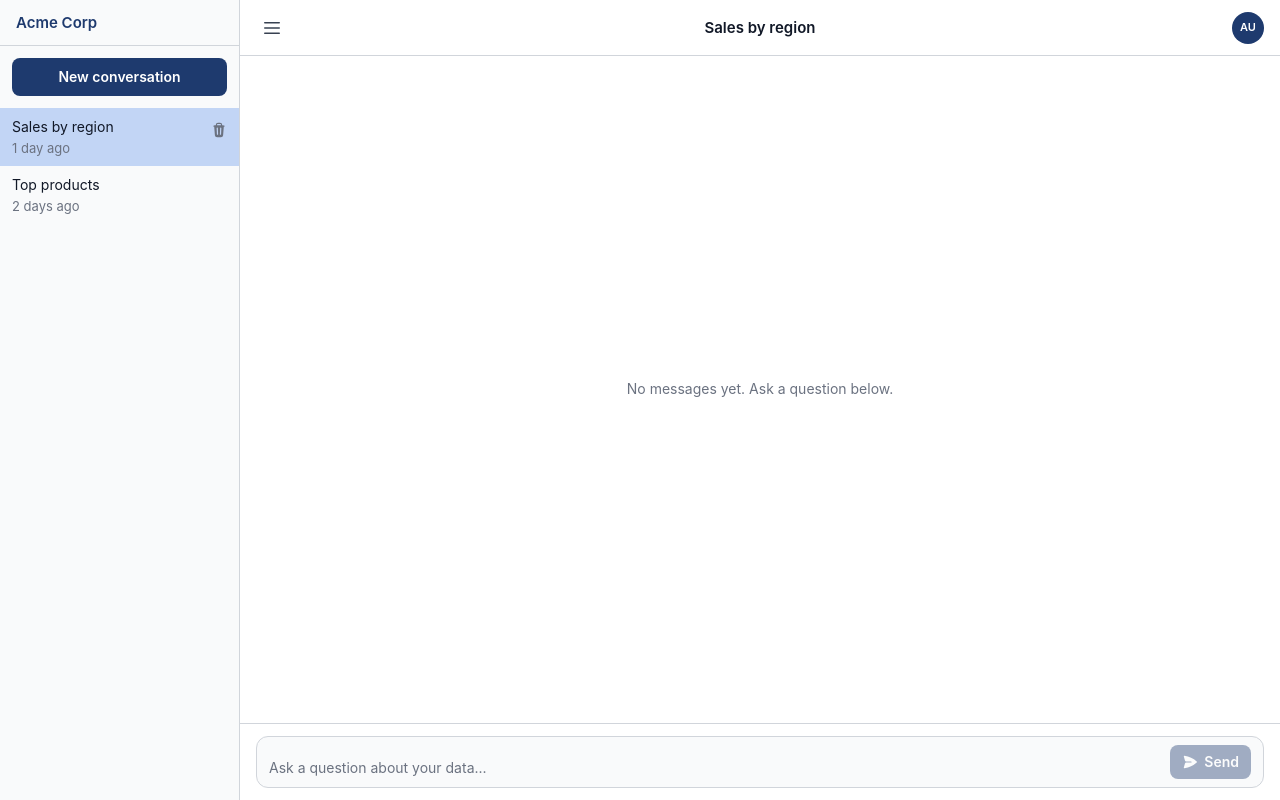
Test: ChatPage — delete active navigates › navigates to /chat after deleting the active conversation
Click the button named "delete conversation: sales by region".
click(219, 130)  # box [207,118,231,142]
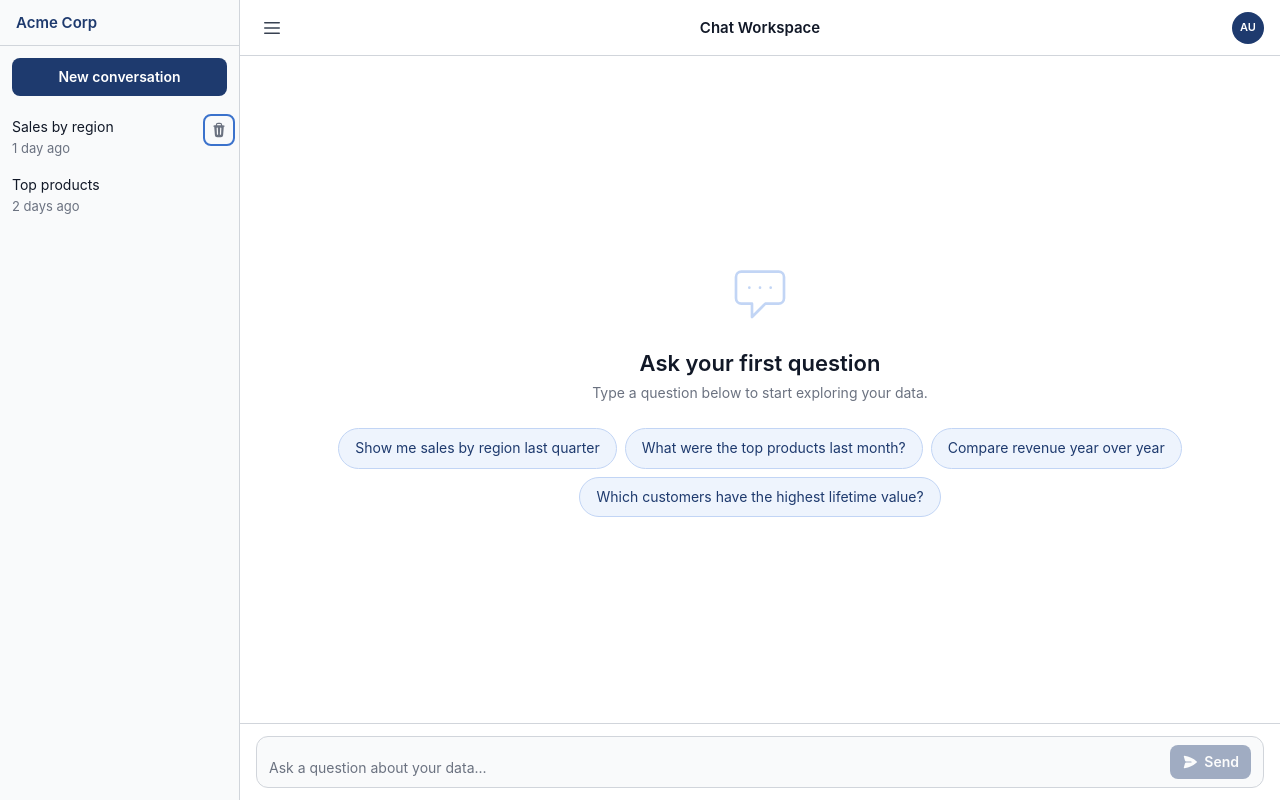
Result: the heading "Ask your first question" is shown at [640,350,880,376]
